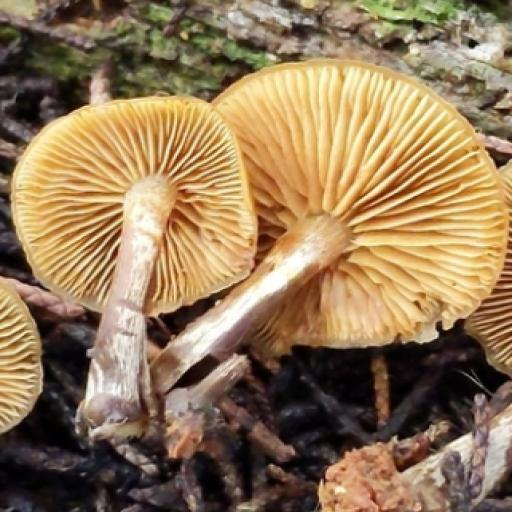mushroom: (6, 51, 509, 400)
